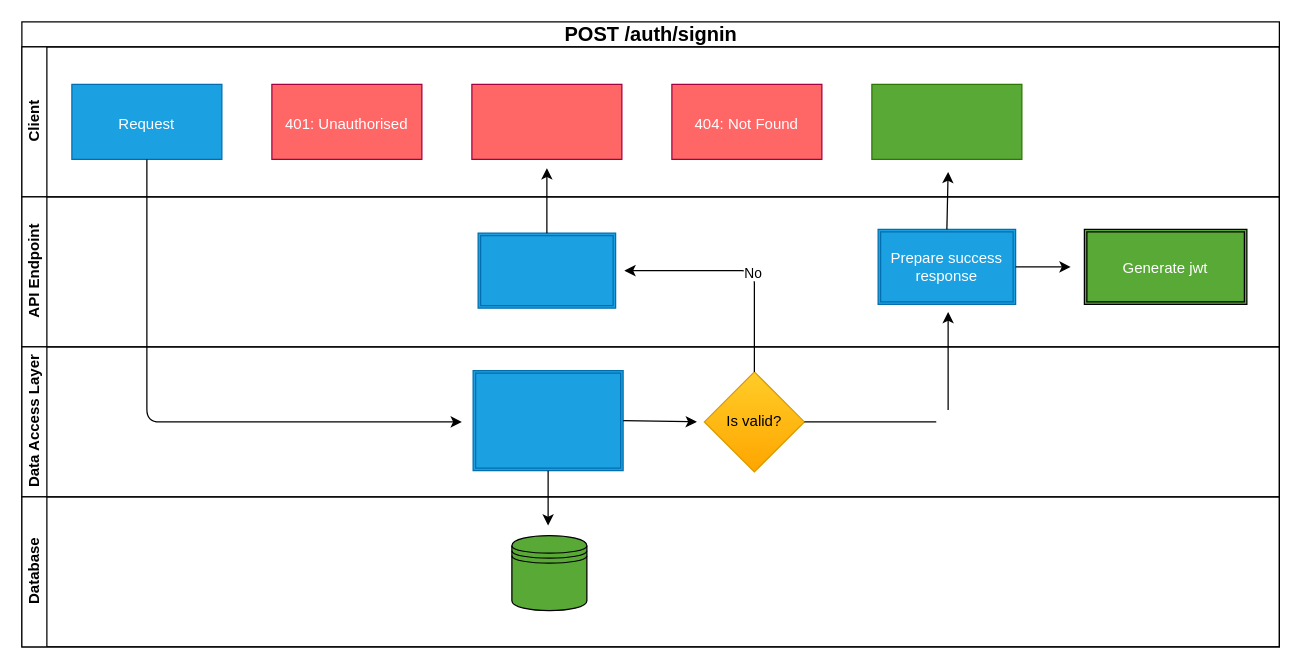
Some shapes in this 1301 by 669 pixel diagram are drawn without their labels. The shapes that lost their labels are listed below. From the top down, each one's centre as x and y in pixels, then its label:
the point at 546,121: 400: Bad Request
the point at 946,121: 200: Response
the point at 546,270: Prepare error response
the point at 547,420: Query Details
the point at 549,572: Postgres
